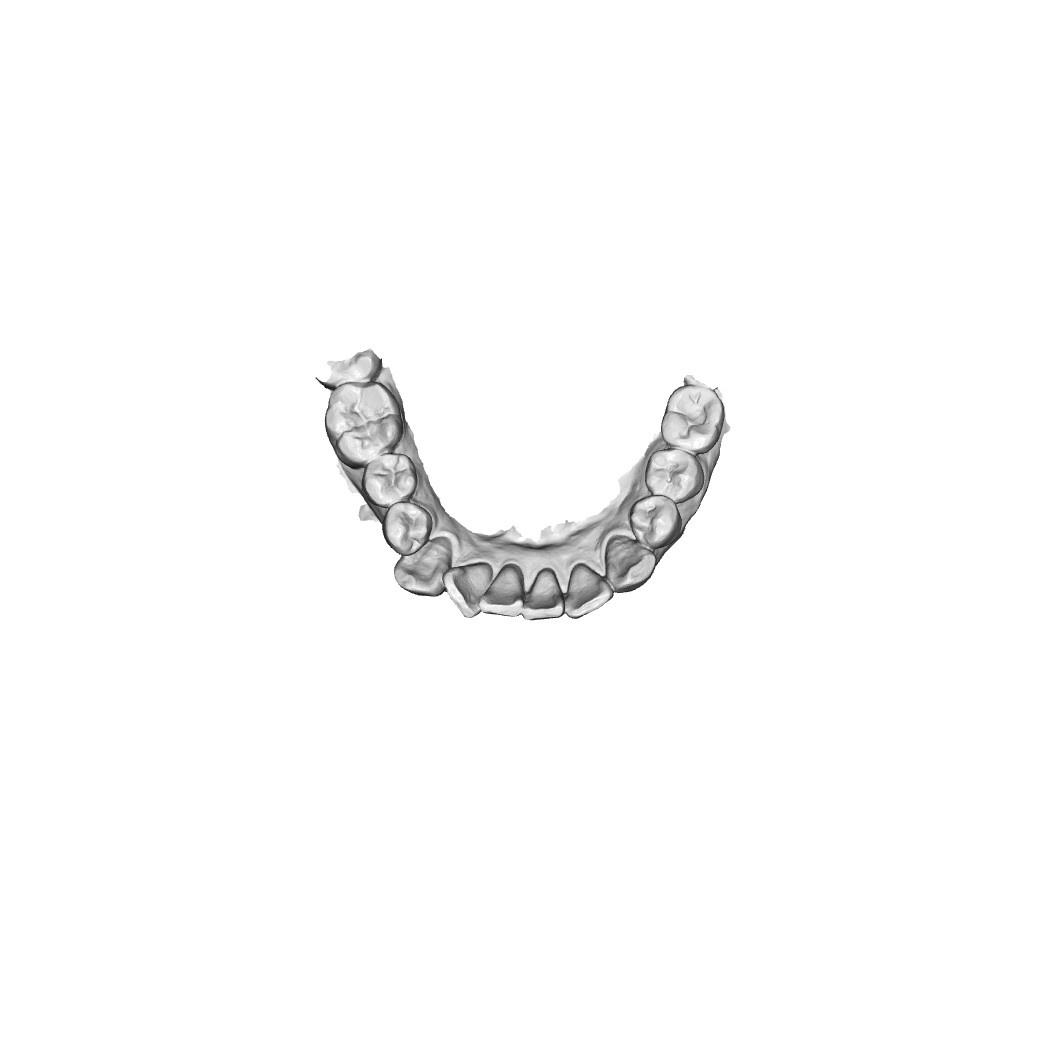canine: (393, 537, 449, 599), (603, 534, 658, 594)
incisor: (562, 560, 614, 622), (520, 569, 567, 624), (444, 563, 487, 621), (477, 568, 525, 619)
molar: (323, 381, 406, 468), (659, 384, 727, 454)
premolar: (360, 450, 421, 511), (643, 447, 704, 502), (626, 494, 683, 551), (380, 502, 434, 556)
